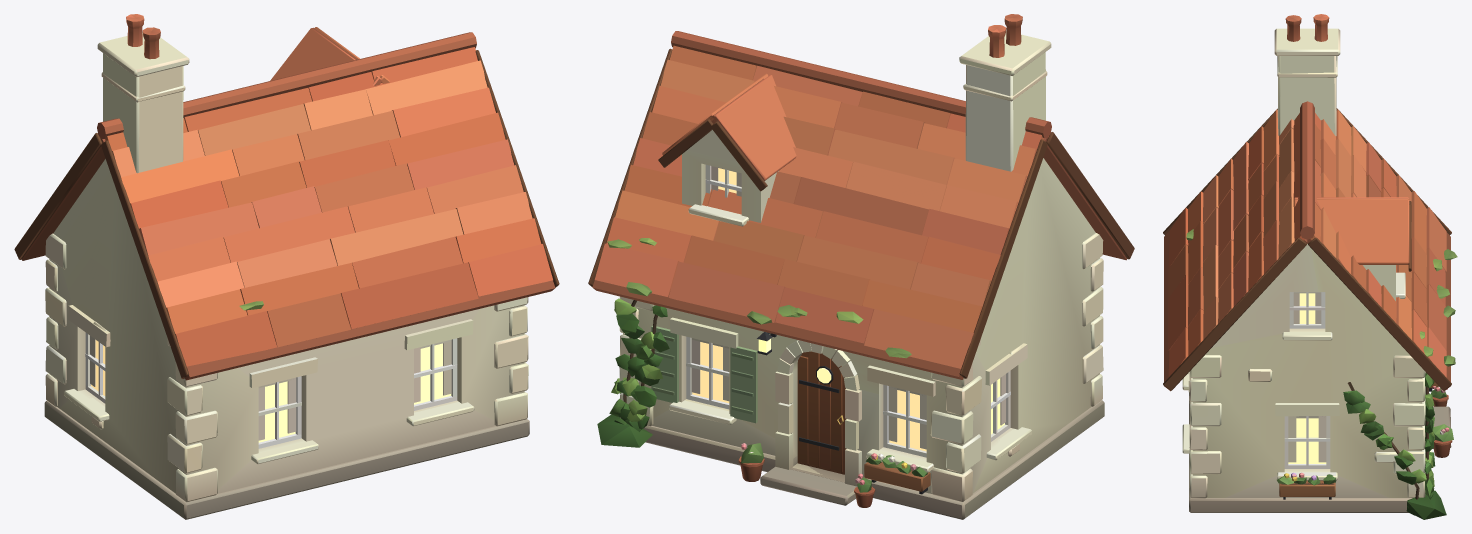
The model's file is cottage-hero-a.glb.
3 renders of one model, left to right at view 1: azimuth 30°, elevation 25°; view 2: azimuth 150°, elevation 25°; view 3: azimuth 270°, elevation 25°, orthographic. The views are drawn at different scales.
Parts seen in each view (by area): view 1: cottage-hero-a; view 2: cottage-hero-a; view 3: cottage-hero-a.
Boxes of the visible parts, x1,y1,x2,y2 form: cottage-hero-a: (14,14,559,519); cottage-hero-a: (588,14,1134,519); cottage-hero-a: (1163,14,1457,519).
Size of the model in its own units: 4.1 by 4.58 by 3.33.
